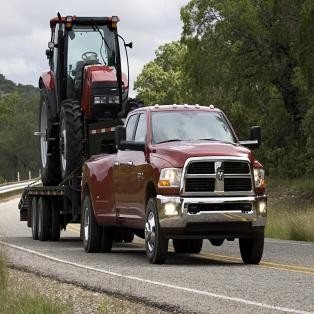Auto: (16, 101, 268, 266)
